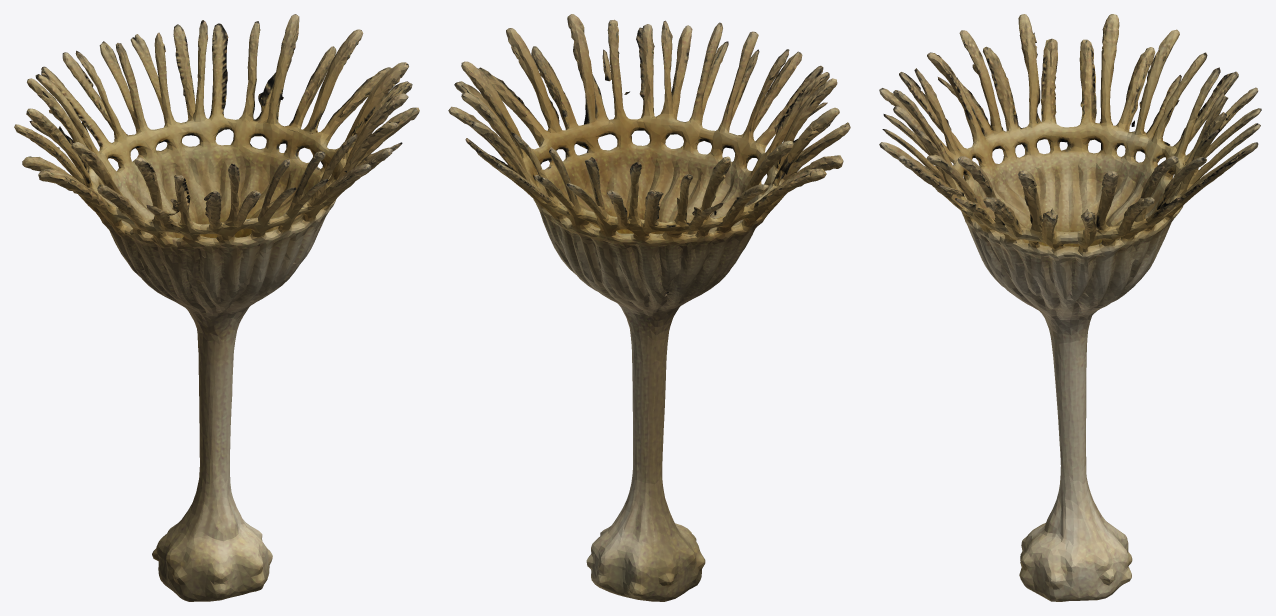
3 views of the same model, side by side, from view 1: azimuth 30°, elevation 25°; view 2: azimuth 150°, elevation 25°; view 3: azimuth 270°, elevation 25° (orthographic).
Visible parts, largest first — view 1: world; view 2: world; view 3: world.
Part boxes in pixels (left/top/right/bottom): world: left=14, top=14, right=419, bottom=601; world: left=448, top=14, right=850, bottom=601; world: left=879, top=14, right=1261, bottom=601.
Bounding box in the file's own units: 0.0218 × 0.028 × 0.0197.
Materials: 1 (1 with a texture image).
